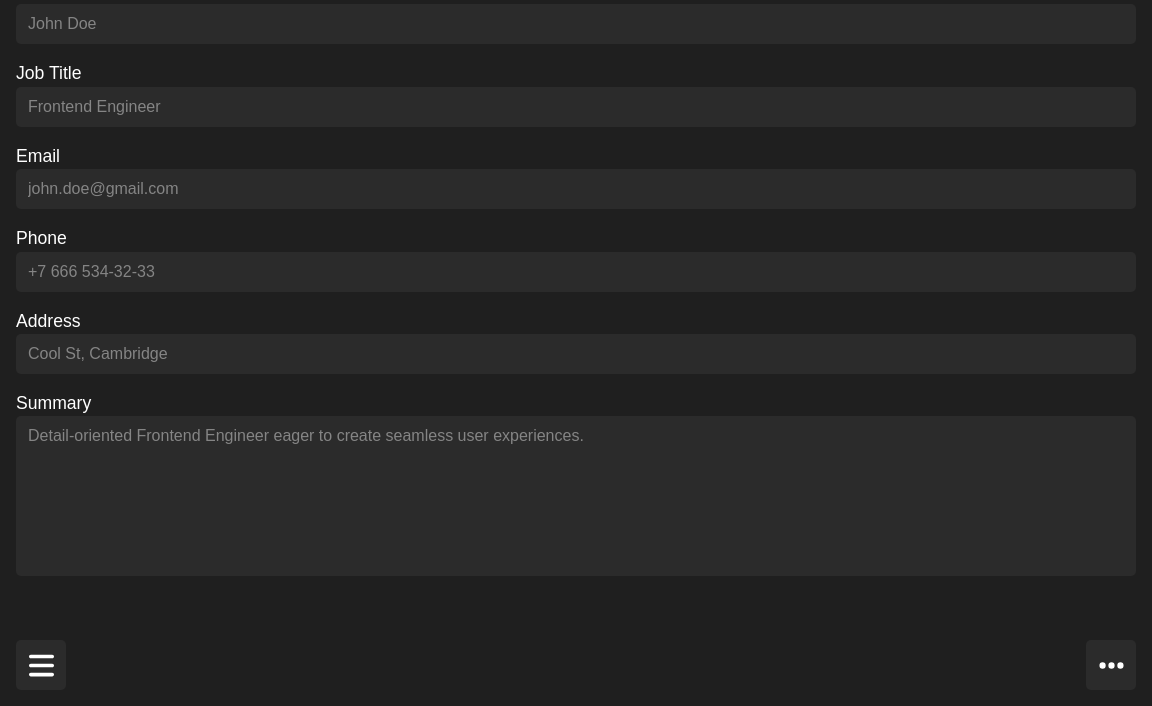
Test: App › AppLayout › "Toggle Navigation" button › should toggle the navbar off
(page scrolled)
Click the button named "Navigation" at point(41, 665), box x1=16 y1=640 x2=66 y2=690
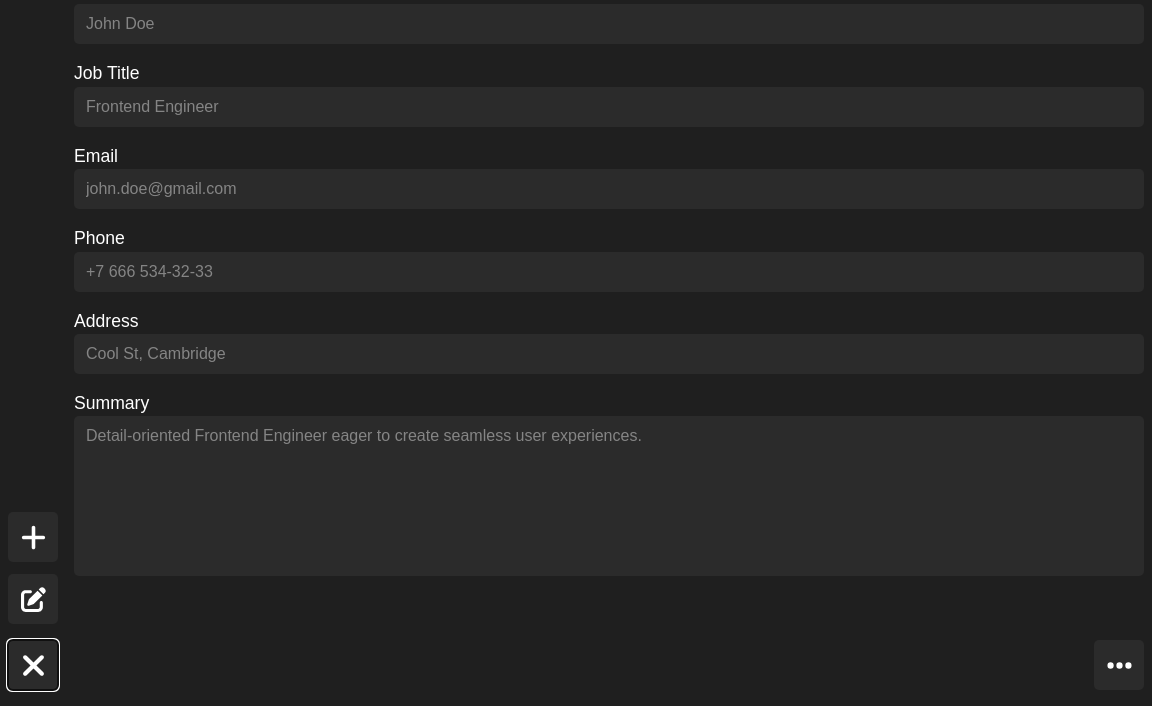
Click the button named "Navigation" at point(33, 665), box x1=8 y1=640 x2=58 y2=690
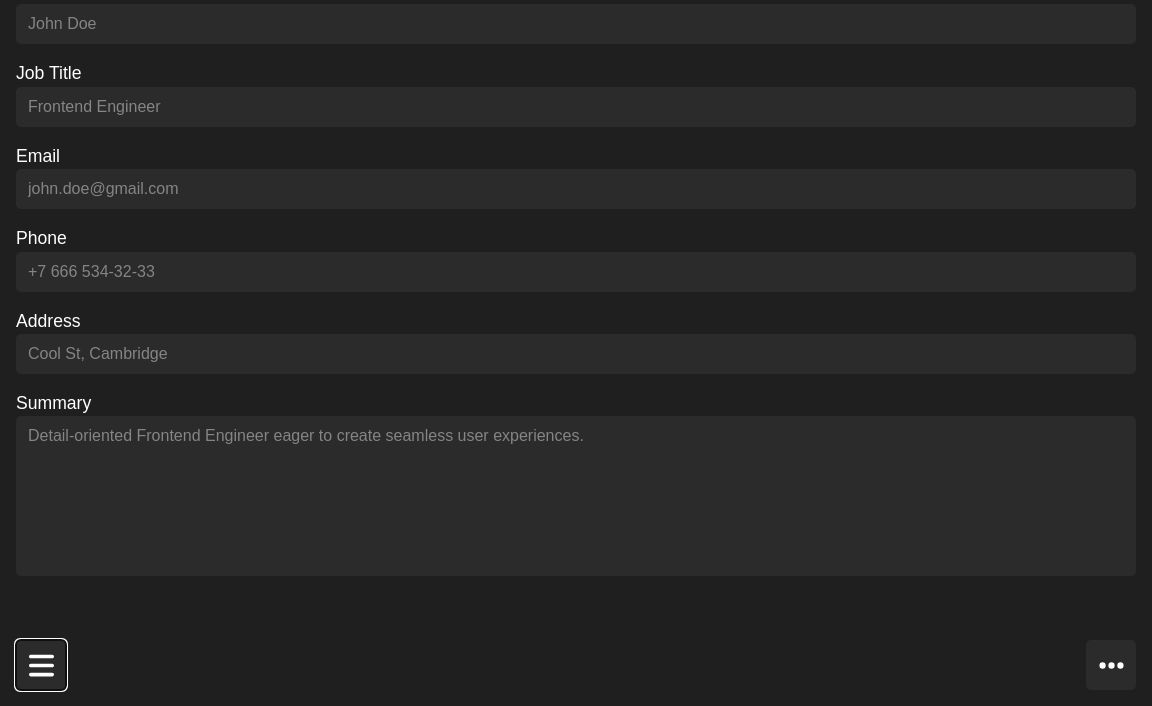
Expected: the button named "Navigation" is collapsed, x1=16 y1=640 x2=66 y2=690
